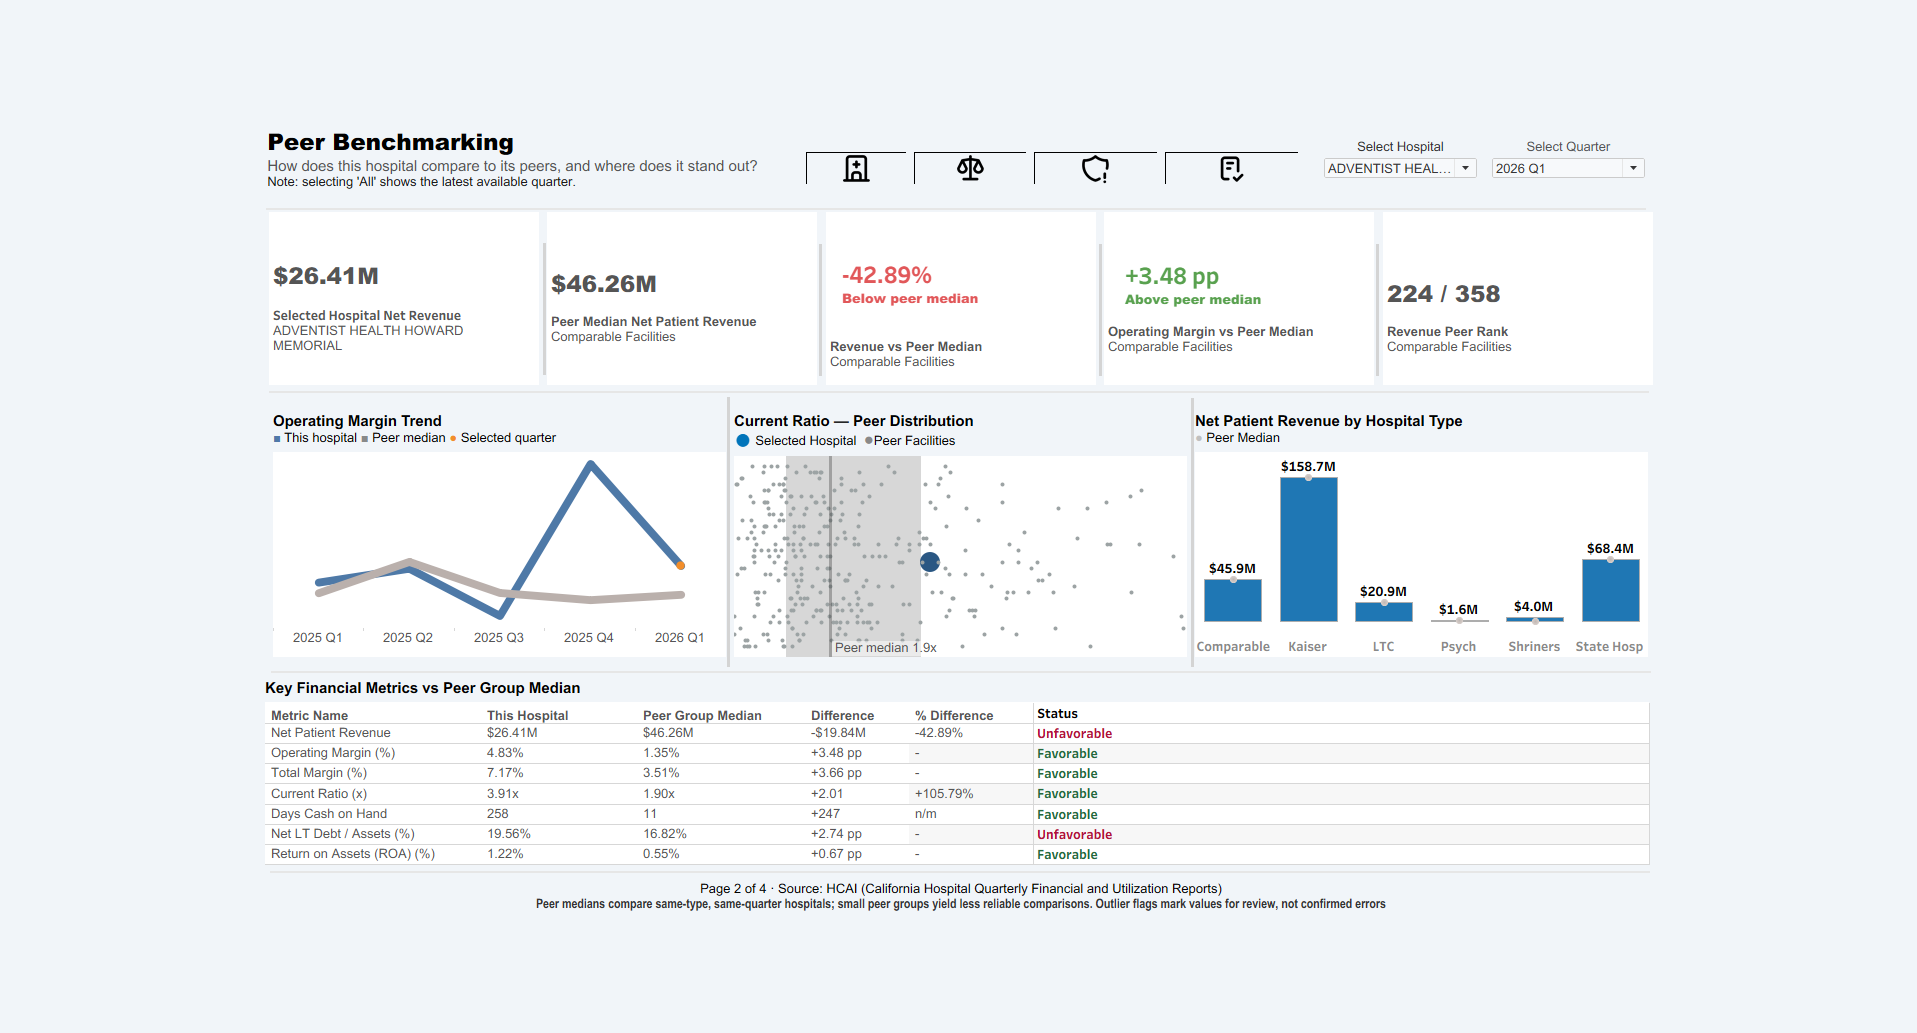

The dashboard page shown, as its layout file describes it:
{"tool":"tableau","page":{"name":"Peer Benchmarking","canvas":[1400,800],"ordinal":3},"visuals":[{"type":"text","box":[0,0,1400,74]},{"type":"parameter","param":"[Parameters].[Parameter 1531665436008454]","box":[1061,18,159,56]},{"type":"parameter","param":"[Parameters].[Parameter 1784005467074563]","box":[1229,18,159,56]},{"type":"dashboard-object","box":[542,27,108,40]},{"type":"dashboard-object","box":[650,27,120,40]},{"type":"dashboard-object","box":[770,27,131,40]},{"type":"dashboard-object","box":[901,27,141,40]},{"type":"blank","box":[2,83,1388,10]},{"type":"blank","box":[0,86,1400,668]},{"type":"worksheet","title":"PB - Hospital Revenue","mark":"Text","box":[5,87,278.4,181]},{"type":"worksheet","title":"PB - Peer Median Revenue","mark":"Text","box":[283.4,87,278.4,181]},{"type":"worksheet","title":"PB - Revenue vs Peer %","mark":"Text","box":[561.8,87,278.4,181]},{"type":"worksheet","title":"PB - Operating Margin vs Peer %","mark":"Text","box":[840.2,87,278.4,181]},{"type":"worksheet","title":"PB - Revenue Peer Rank","mark":"Text","box":[1118.6,87,278.4,181]},{"type":"blank","box":[279,118,11,140]},{"type":"blank","box":[555,119,11,140]},{"type":"blank","box":[835,119,11,140]},{"type":"blank","box":[1112,119,11,140]},{"type":"worksheet","title":"PB - Revenue vs Peer % Display","mark":"Text","box":[578,137,153,52]},{"type":"worksheet","title":"PB - Operating Margin vs Peer Display","mark":"Text","box":[861,138,148,52]},{"type":"blank","box":[5,266,1388,10]},{"type":"worksheet","title":"Operating Margin Trend ","mark":"Line","rows":["Calculation_1509677775921152"],"cols":["Calculation_1135014951743488"],"box":[9,287,461,253]},{"type":"worksheet","title":"PB - Peer Distribution","mark":"Circle","rows":["Calculation_0562450183786497"],"cols":["CURRENT_RATIO (VW_PEER_BENCHMARK)"],"box":[470,287,461,253]},{"type":"worksheet","title":"Net Patient Revenue (By Hospital Type)","mark":"GanttBar","rows":["NET_TOT (VW_PEER_BENCHMARK)","PEER_MEDIAN_NET_TOT"],"cols":["TYPE_HOSP (VW_PEER_BENCHMARK)"],"box":[931,287,461,253]},{"type":"blank","box":[463,294,11,240]},{"type":"blank","box":[927,294,11,240]},{"type":"blank","box":[7,546,1388,10]},{"type":"worksheet","title":"Key Financial Metrics vs Peer Median","mark":"Text","rows":["METRIC_NAME","HOSPITAL_TXT","PEER_TXT","DIFF_TXT","PCT_DIFF_TXT"],"box":[1,554,1393,194]},{"type":"text","box":[774,584,82,17]},{"type":"blank","box":[6,746,1388,10]},{"type":"text","box":[9,750,1384,44]}]}

Visuals, with their boxes on the page's 1400x800 design canvas (x1, y1, x2, y2). These are canvas units, not pixel positions in the 1917x1033 screenshot, which may show the page scaled, cropped or inside an application window:
text: locate(0, 0, 1400, 74)
parameter: locate(1061, 18, 1220, 74)
parameter: locate(1229, 18, 1388, 74)
dashboard-object: locate(542, 27, 650, 67)
dashboard-object: locate(650, 27, 770, 67)
dashboard-object: locate(770, 27, 901, 67)
dashboard-object: locate(901, 27, 1042, 67)
blank: locate(2, 83, 1390, 93)
blank: locate(0, 86, 1400, 754)
"PB - Hospital Revenue" worksheet (Text marks): locate(5, 87, 283, 268)
"PB - Peer Median Revenue" worksheet (Text marks): locate(283, 87, 562, 268)
"PB - Revenue vs Peer %" worksheet (Text marks): locate(562, 87, 840, 268)
"PB - Operating Margin vs Peer %" worksheet (Text marks): locate(840, 87, 1119, 268)
"PB - Revenue Peer Rank" worksheet (Text marks): locate(1119, 87, 1397, 268)
blank: locate(279, 118, 290, 258)
blank: locate(555, 119, 566, 259)
blank: locate(835, 119, 846, 259)
blank: locate(1112, 119, 1123, 259)
"PB - Revenue vs Peer % Display" worksheet (Text marks): locate(578, 137, 731, 189)
"PB - Operating Margin vs Peer Display" worksheet (Text marks): locate(861, 138, 1009, 190)
blank: locate(5, 266, 1393, 276)
"Operating Margin Trend " worksheet (Line marks): locate(9, 287, 470, 540)
"PB - Peer Distribution" worksheet (Circle marks): locate(470, 287, 931, 540)
"Net Patient Revenue (By Hospital Type)" worksheet (GanttBar marks): locate(931, 287, 1392, 540)
blank: locate(463, 294, 474, 534)
blank: locate(927, 294, 938, 534)
blank: locate(7, 546, 1395, 556)
"Key Financial Metrics vs Peer Median" worksheet (Text marks): locate(1, 554, 1394, 748)
text: locate(774, 584, 856, 601)
blank: locate(6, 746, 1394, 756)
text: locate(9, 750, 1393, 794)
